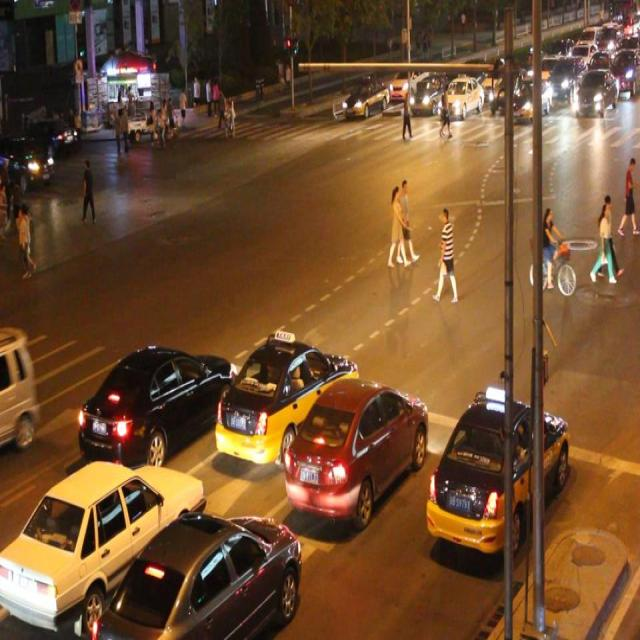car: (1, 462, 204, 630), (100, 513, 299, 640), (427, 390, 568, 551), (285, 373, 428, 524), (215, 329, 358, 466), (77, 346, 236, 467), (0, 135, 54, 187), (343, 74, 390, 118), (408, 71, 448, 116), (439, 76, 481, 116)
